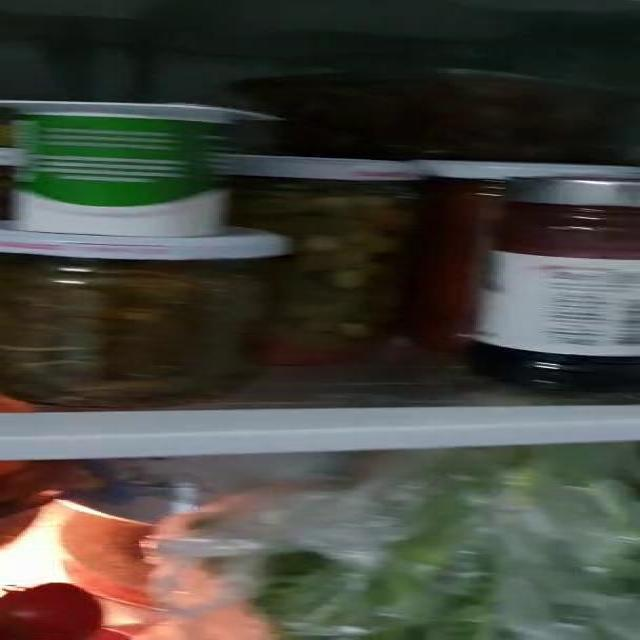lettuce: (254, 452, 640, 639)
tomato: (4, 578, 108, 636)
yoghurt: (6, 97, 271, 236)
